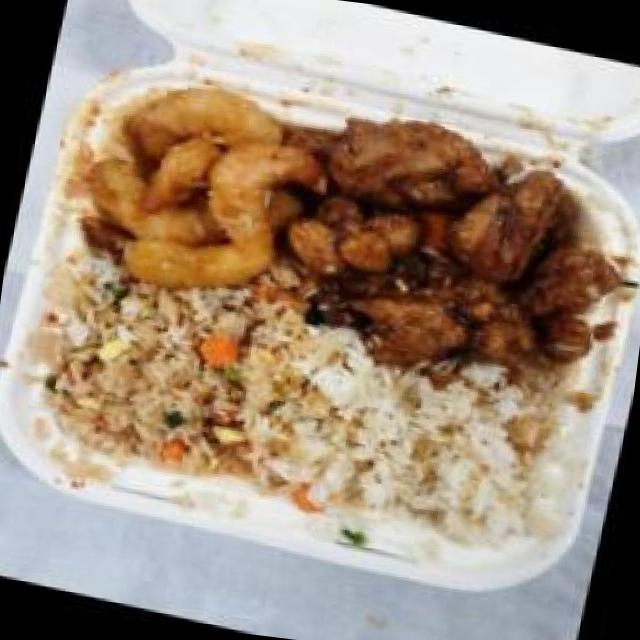Fried Rice: (0, 243, 317, 513)
Honey Walnut Shrimp: (39, 44, 347, 324)
The Original Orange Chicken: (247, 86, 640, 402)
White Steamed Rice: (256, 332, 593, 572)
